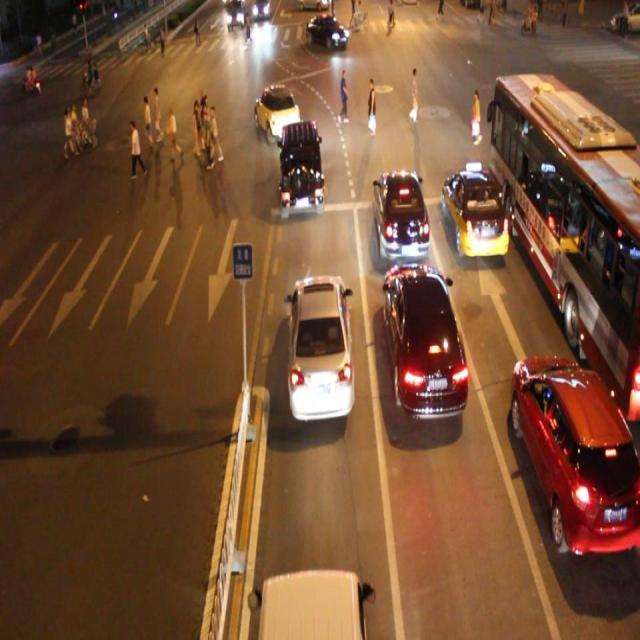car: (509, 353, 640, 551), (380, 262, 467, 415), (288, 273, 354, 416), (441, 170, 508, 260), (372, 167, 429, 264), (279, 118, 324, 215), (254, 84, 301, 144), (307, 11, 348, 52)
truck: (257, 563, 364, 640)
van: (491, 71, 640, 418)
